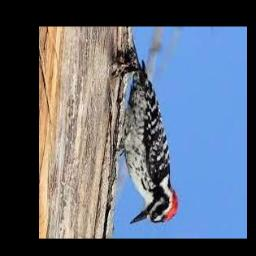Woodpecker: (119, 51, 179, 225)
